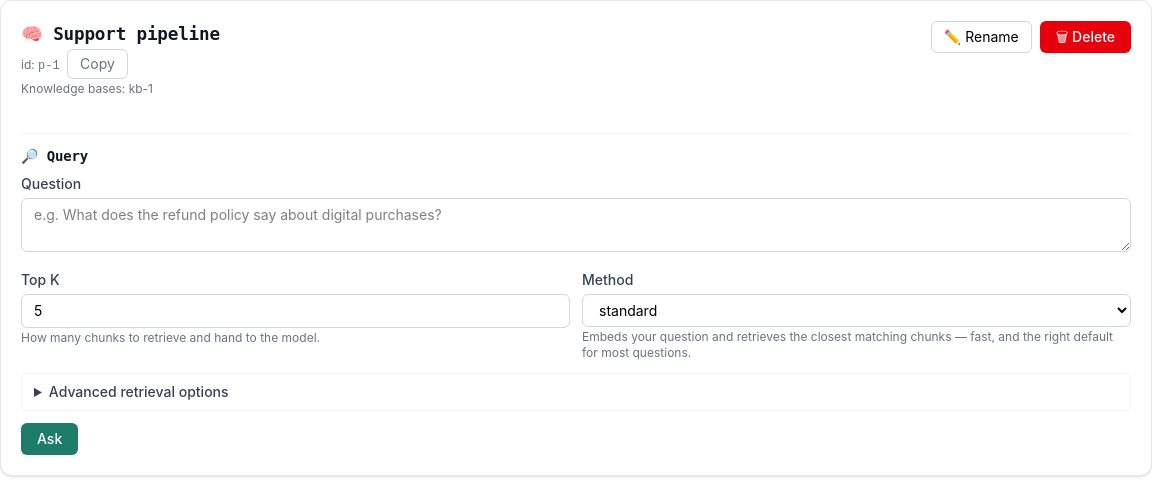
Scenario: PipelineCard › shows a friendly error on a non-404 delete failure
This screenshot has width=1152, height=494.
Click the button "🗑 Delete". click: {"x": 1085, "y": 37}
box: [1040,21,1131,53]
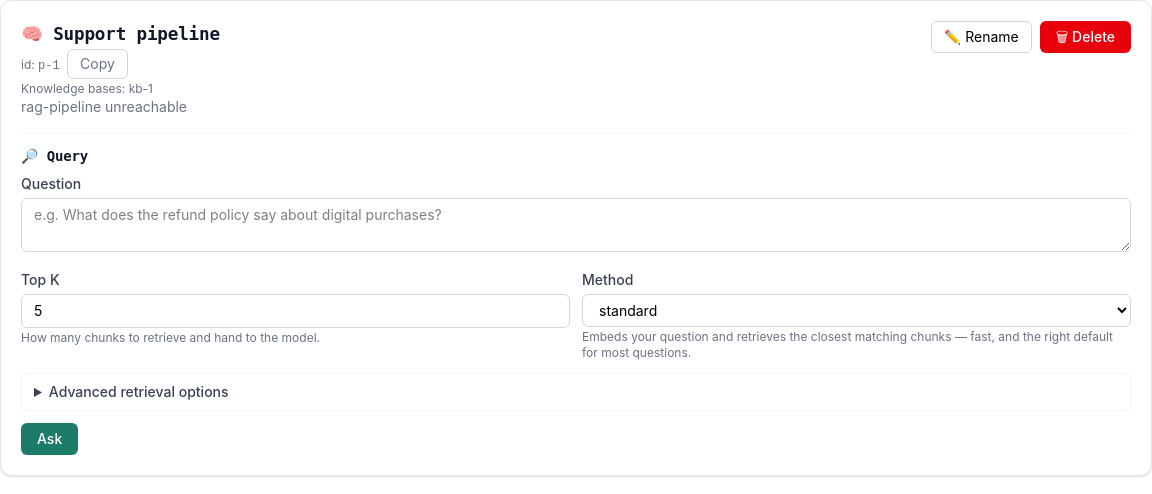
Result: the text "rag-pipeline unreachable" is shown at [21,98,187,115]
